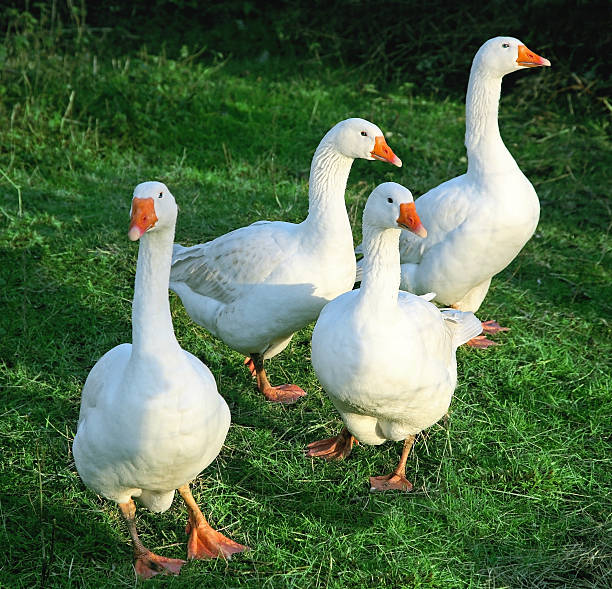goose: (66, 174, 263, 573), (165, 111, 402, 395), (308, 181, 477, 506), (406, 30, 566, 298)
